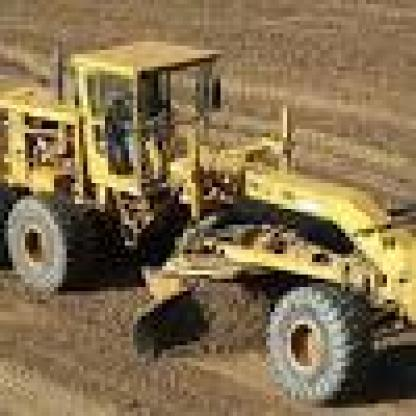bull_dozer/loader/grader: (8, 33, 412, 412)
